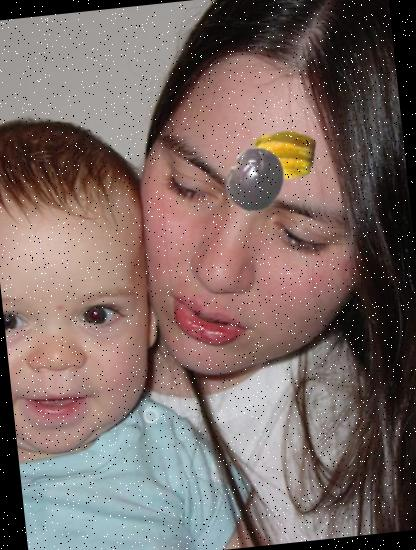Passion: (219, 142, 292, 215)
Physalis: (246, 118, 318, 191)
